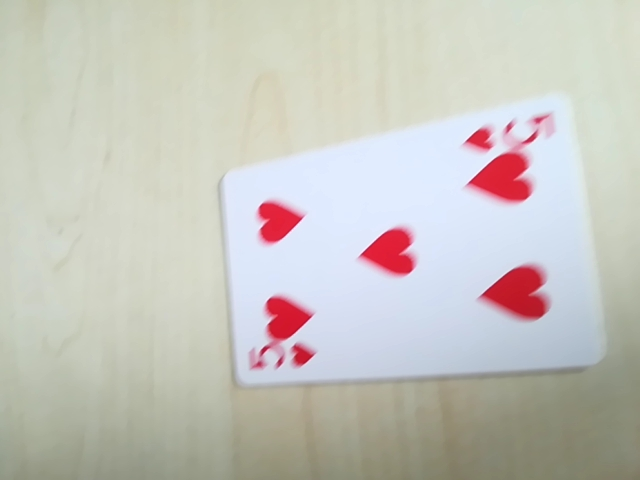hx 5: (461, 106, 557, 156), (245, 337, 321, 381)
